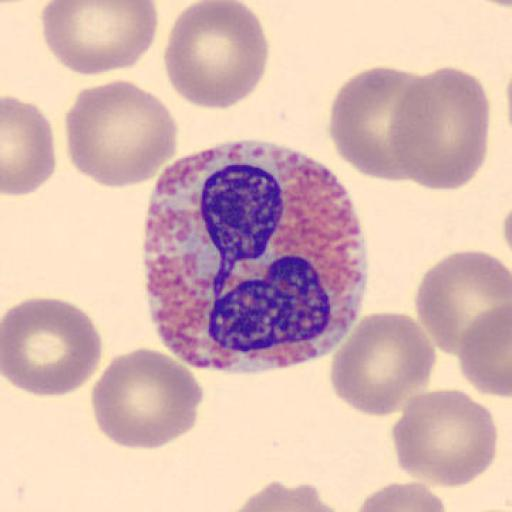RBC: (387, 64, 491, 193), (63, 78, 180, 190), (90, 346, 204, 452), (329, 310, 438, 420), (327, 63, 427, 182), (162, 0, 269, 111), (390, 388, 498, 489), (413, 248, 511, 358), (2, 296, 103, 398), (40, 0, 158, 76), (1, 93, 57, 198), (455, 299, 512, 399), (222, 479, 343, 512), (353, 479, 448, 512)
WBC: (140, 137, 371, 375), (146, 229, 369, 375)
